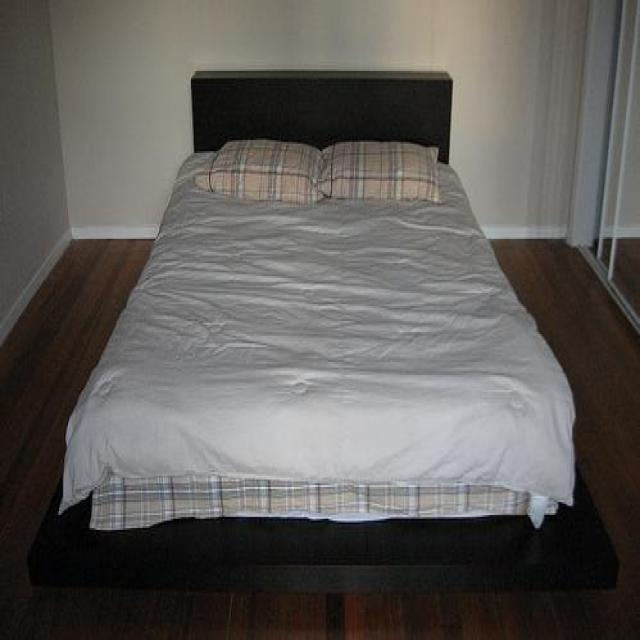bed: (28, 69, 602, 592)
